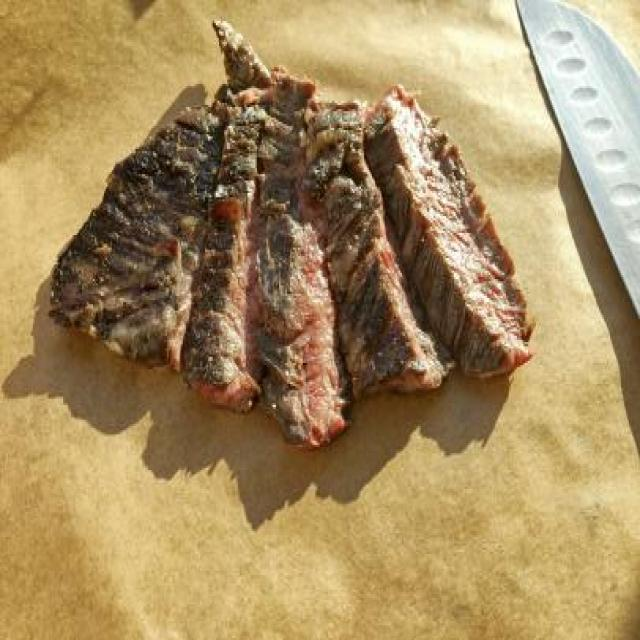Carne: (47, 15, 536, 451)
